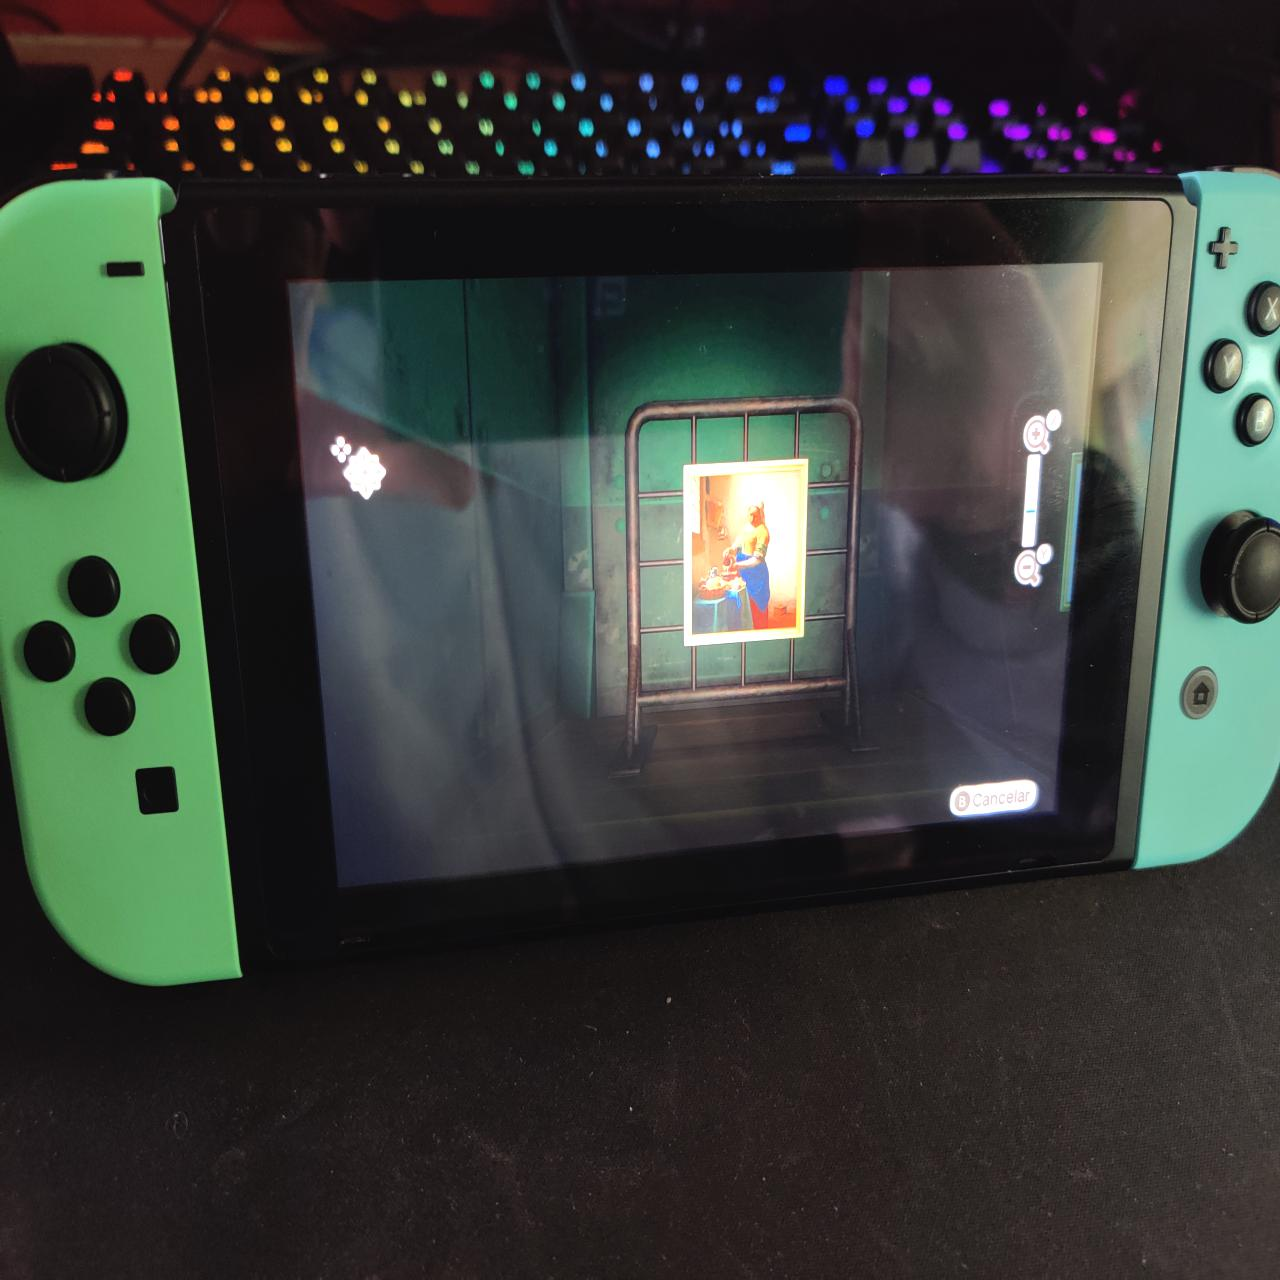Milkmaid: (693, 476, 802, 628)
